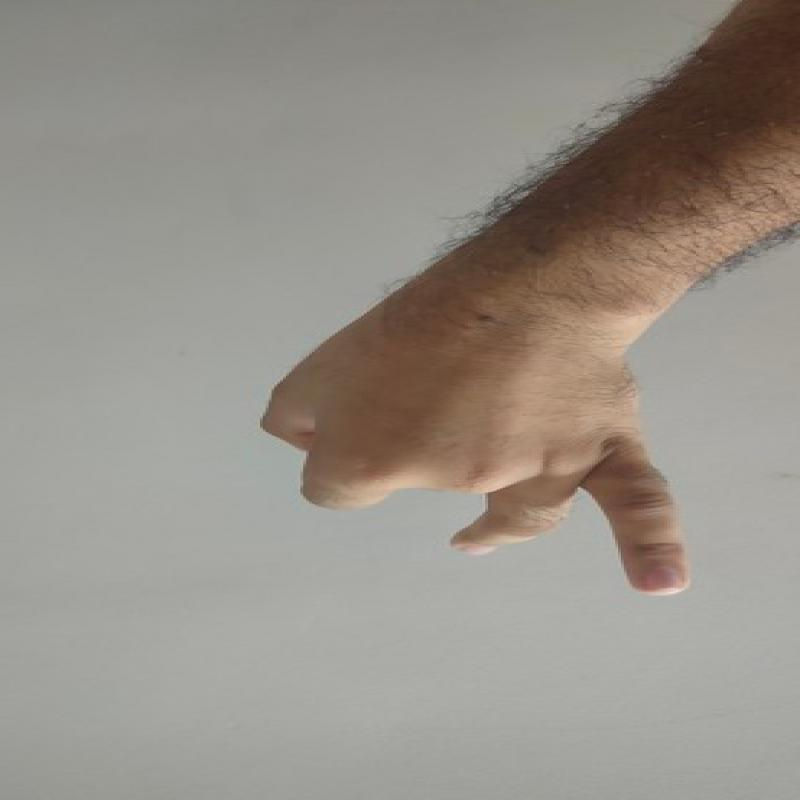Katakam: (238, 306, 706, 607)
